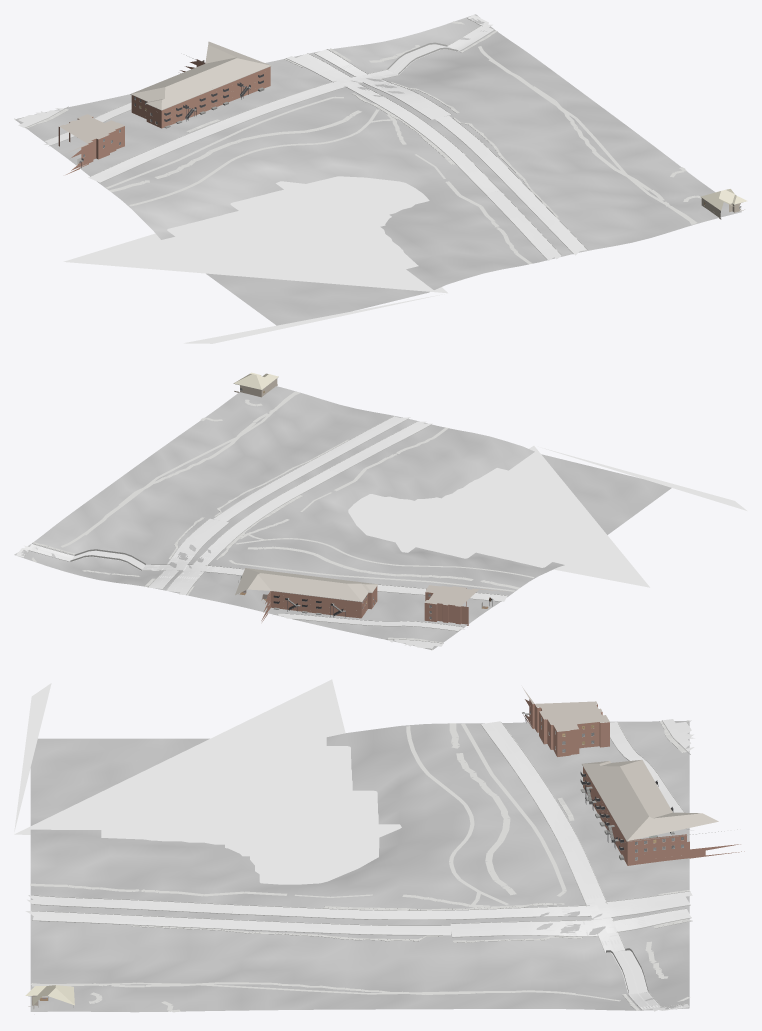
3 views of the same model, one above another, from view 1: azimuth 30°, elevation 25°; view 2: azimuth 150°, elevation 25°; view 3: azimuth 270°, elevation 25° (orthographic). The views are drawn at different scales.
Visible parts, largest first — view 1: ground, water, asphalt, walk, roof, wall, curb, mark_w, concrete, mark_y, detail; view 2: ground, water, asphalt, walk, roof, wall, curb, concrete, mark_w; view 3: ground, water, asphalt, walk, roof, wall, curb, mark_w, concrete, mark_y, detail.
Boxes of the visible parts, <box> form: ground: <box>16,14,741,325</box>; water: <box>63,176,447,343</box>; asphalt: <box>88,24,587,260</box>; walk: <box>14,21,701,264</box>; roof: <box>59,41,747,210</box>; wall: <box>58,59,744,219</box>; curb: <box>17,18,587,258</box>; mark_w: <box>94,16,586,259</box>; concrete: <box>18,14,488,144</box>; mark_y: <box>95,30,574,255</box>; detail: <box>80,55,742,210</box>; ground: <box>14,386,671,649</box>; water: <box>348,446,746,587</box>; asphalt: <box>24,416,507,601</box>; walk: <box>32,391,534,650</box>; roof: <box>234,372,506,606</box>; wall: <box>234,378,468,625</box>; curb: <box>24,416,507,649</box>; concrete: <box>16,547,464,648</box>; mark_w: <box>17,416,505,600</box>; ground: <box>30,721,689,1012</box>; water: <box>14,679,401,884</box>; asphalt: <box>25,721,692,1011</box>; walk: <box>30,720,691,1012</box>; roof: <box>25,687,718,1005</box>; wall: <box>28,699,744,1008</box>; curb: <box>29,720,692,1009</box>; mark_w: <box>30,723,690,1009</box>; concrete: <box>603,719,694,1010</box>; mark_y: <box>26,723,689,1007</box>; detail: <box>28,712,737,1009</box>.
Bounding box in the file's own units: 306 × 21.71 × 278.
